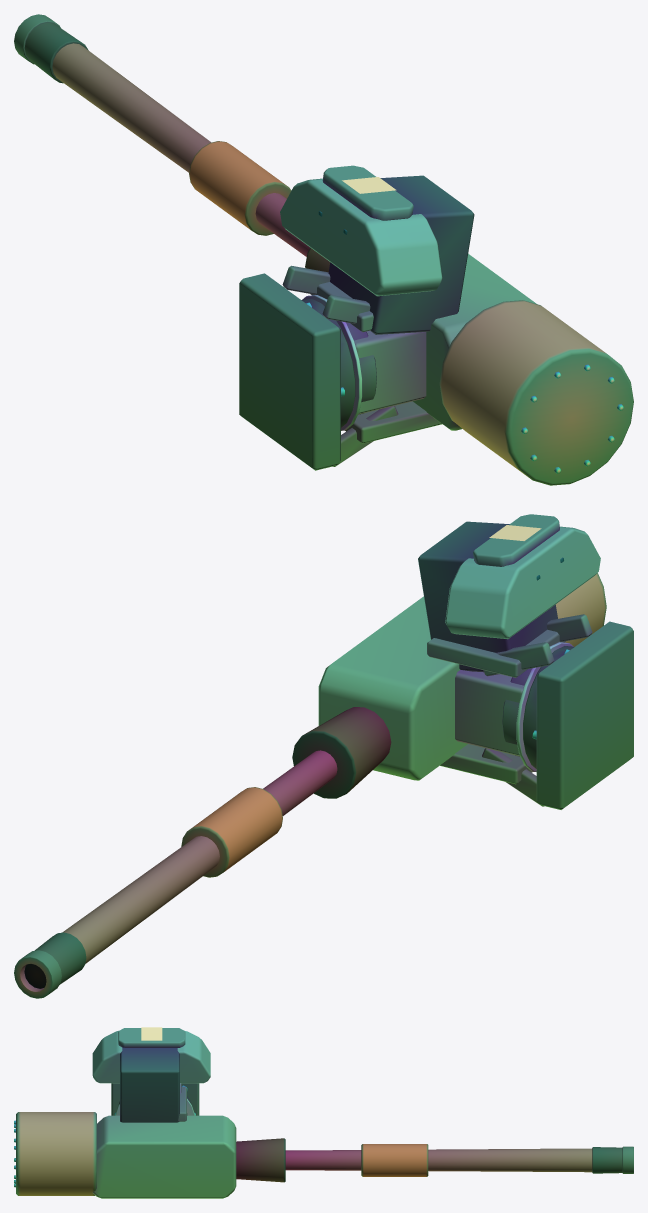
File: arm_m68.glb
3 renders of one model, top to bottom at view 1: azimuth 30°, elevation 25°; view 2: azimuth 150°, elevation 25°; view 3: azimuth 270°, elevation 25°, orthographic. The views are drawn at different scales.
Parts seen in each view (by area): view 1: Body__armor_sub, Body__gunmetal, Body__armor, Body__dark, Body__armor_oxide, Body__chrome; view 2: Body__armor, Body__gunmetal, Body__armor_sub, Body__dark, Body__rubber, Body__armor_oxide, Body__chrome; view 3: Body__armor, Body__armor_sub, Body__gunmetal, Body__dark, Body__armor_oxide, Body__rubber, Body__decal.
Part boxes in pixels (x1,y1,x2,y2): Body__armor_sub: [282, 165, 633, 485]; Body__gunmetal: [14, 14, 376, 470]; Body__armor: [280, 178, 536, 430]; Body__dark: [24, 22, 474, 427]; Body__armor_oxide: [189, 141, 291, 235]; Body__chrome: [302, 295, 623, 473]; Body__armor: [318, 526, 600, 780]; Body__gunmetal: [14, 621, 633, 998]; Body__armor_sub: [427, 514, 606, 806]; Body__dark: [35, 521, 574, 984]; Body__rubber: [292, 707, 391, 798]; Body__armor_oxide: [181, 787, 282, 877]; Body__chrome: [516, 642, 573, 771]; Body__armor: [92, 1030, 236, 1198]; Body__armor_sub: [16, 1028, 186, 1195]; Body__gunmetal: [111, 1083, 633, 1173]; Body__dark: [118, 1047, 622, 1173]; Body__armor_oxide: [361, 1144, 428, 1176]; Body__rubber: [236, 1138, 285, 1182]; Body__decal: [141, 1027, 162, 1040].
Size of the model in its own units: 0.9 by 0.9269 by 3.52.
